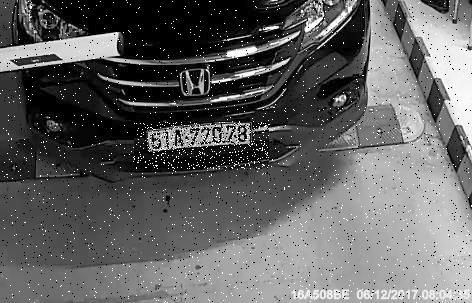License-plate: (135, 124, 270, 171)
